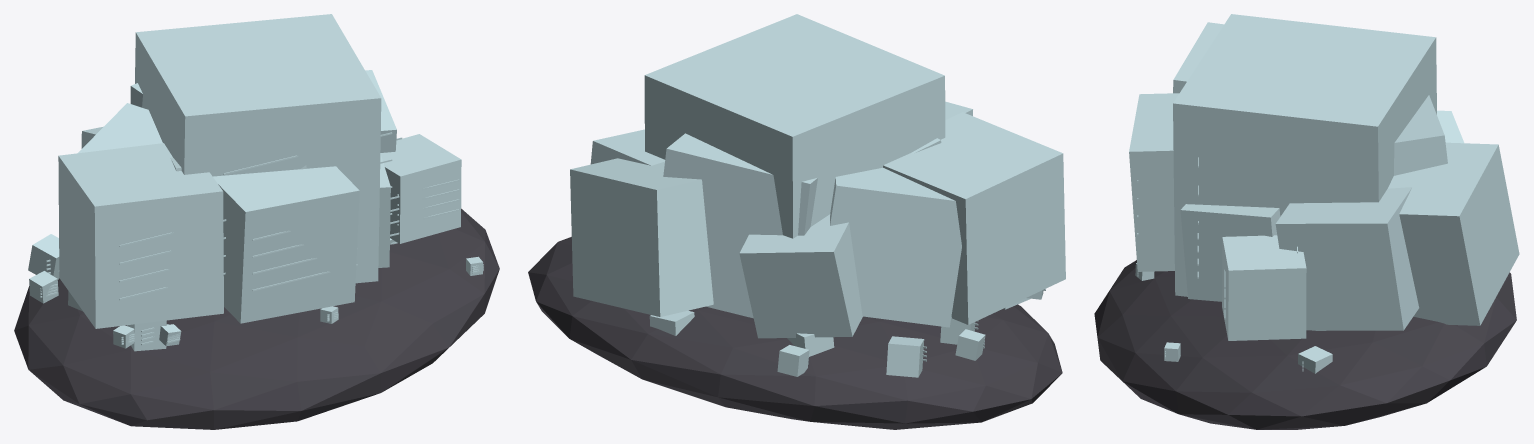
File: halite.glb
The picture shows the model from 3 angles, left to right: view 1: azimuth 30°, elevation 25°; view 2: azimuth 150°, elevation 25°; view 3: azimuth 270°, elevation 25°; orthographic projection. The views are drawn at different scales.
Visible parts, largest first — view 1: Halite; view 2: Halite; view 3: Halite.
Part boxes in pixels (x1,y1,x2,y2): Halite: (14,14,499,429); Halite: (528,14,1065,429); Halite: (1094,14,1519,429).
Size of the model in its own units: 3.96 by 2.46 by 3.05.
